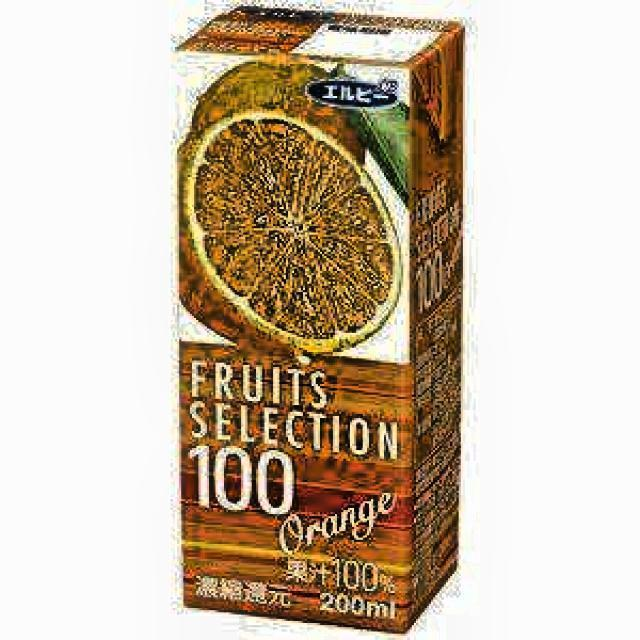cardboard: (170, 0, 466, 634)
